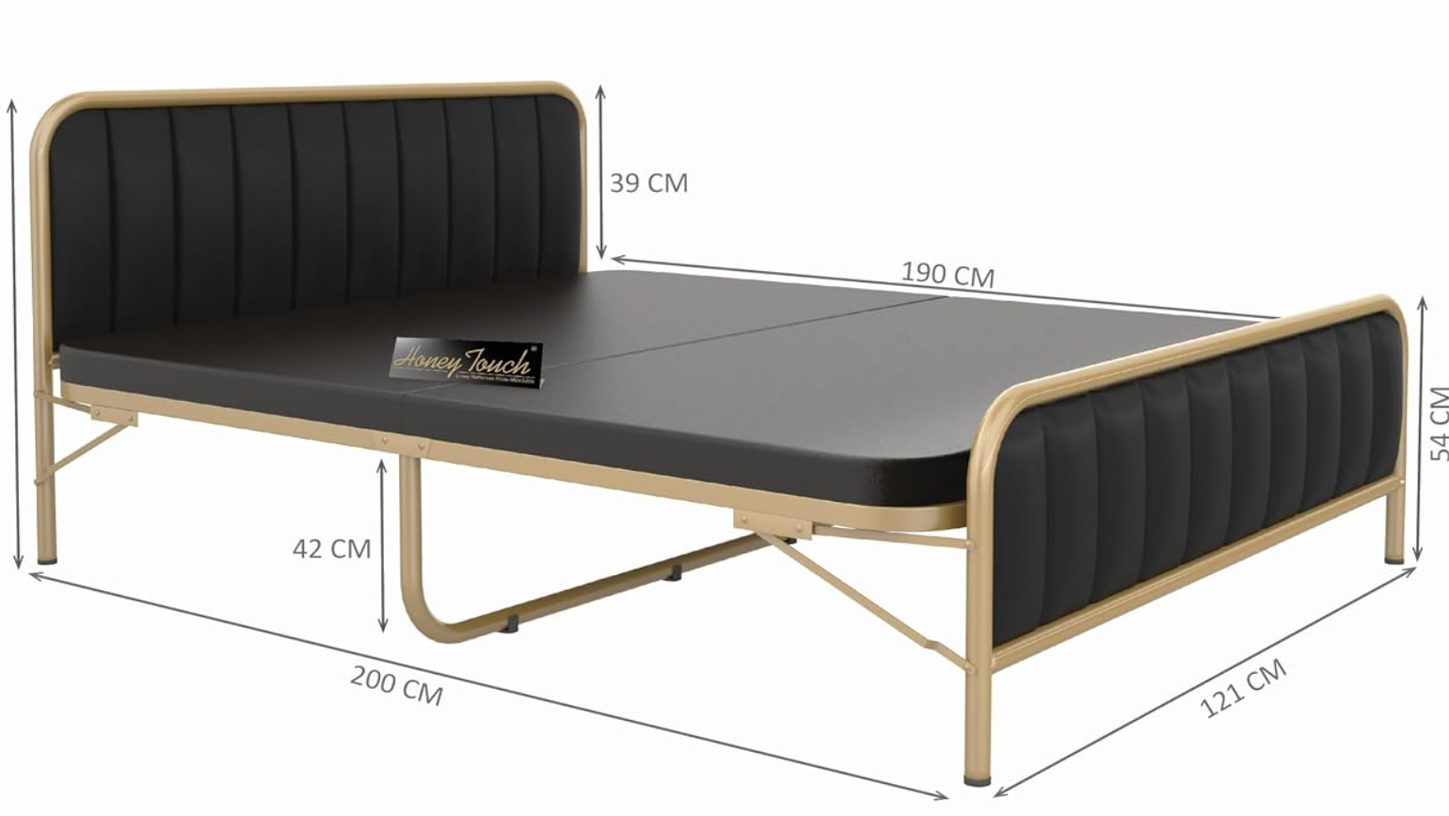cot: (15, 41, 1449, 790)
